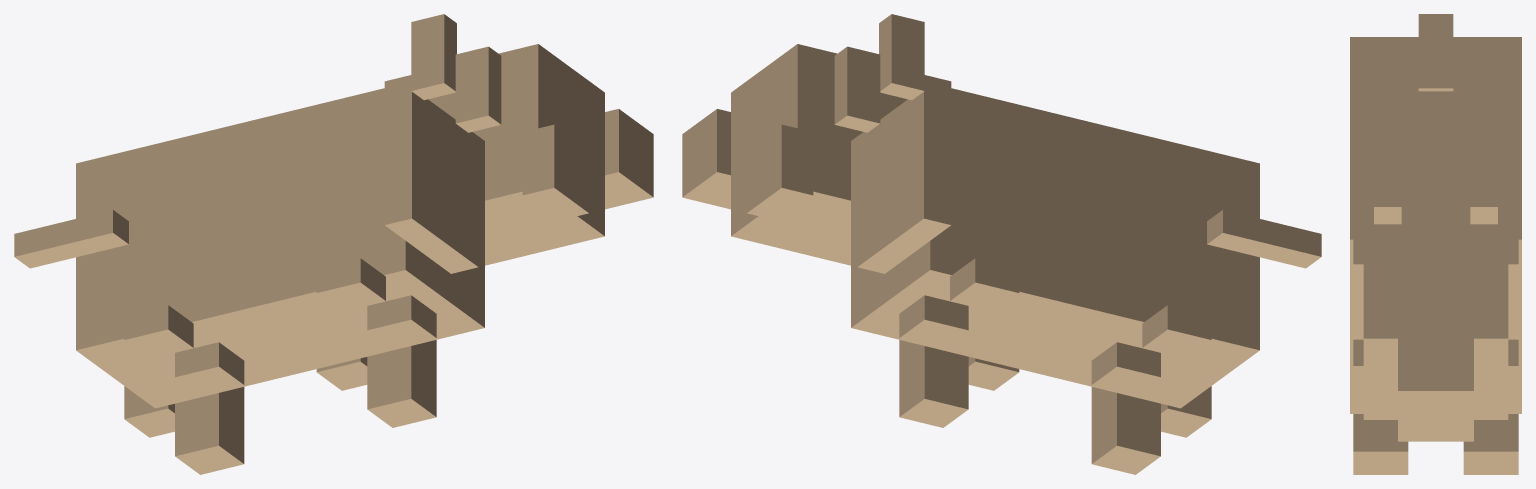
The model's file is dog.gltf.
3 views of the same model, side by side, from view 1: azimuth 30°, elevation 25°; view 2: azimuth 150°, elevation 25°; view 3: azimuth 270°, elevation 25° (orthographic). The views are drawn at different scales.
Visible parts, largest first — view 1: DogNode; view 2: DogNode; view 3: DogNode.
Part boxes in pixels (left/top/right/bottom): DogNode: left=14, top=14, right=653, bottom=474; DogNode: left=682, top=14, right=1321, bottom=474; DogNode: left=1350, top=14, right=1521, bottom=474.
Size of the model in its own units: 2.23 by 1.17 by 0.5.
